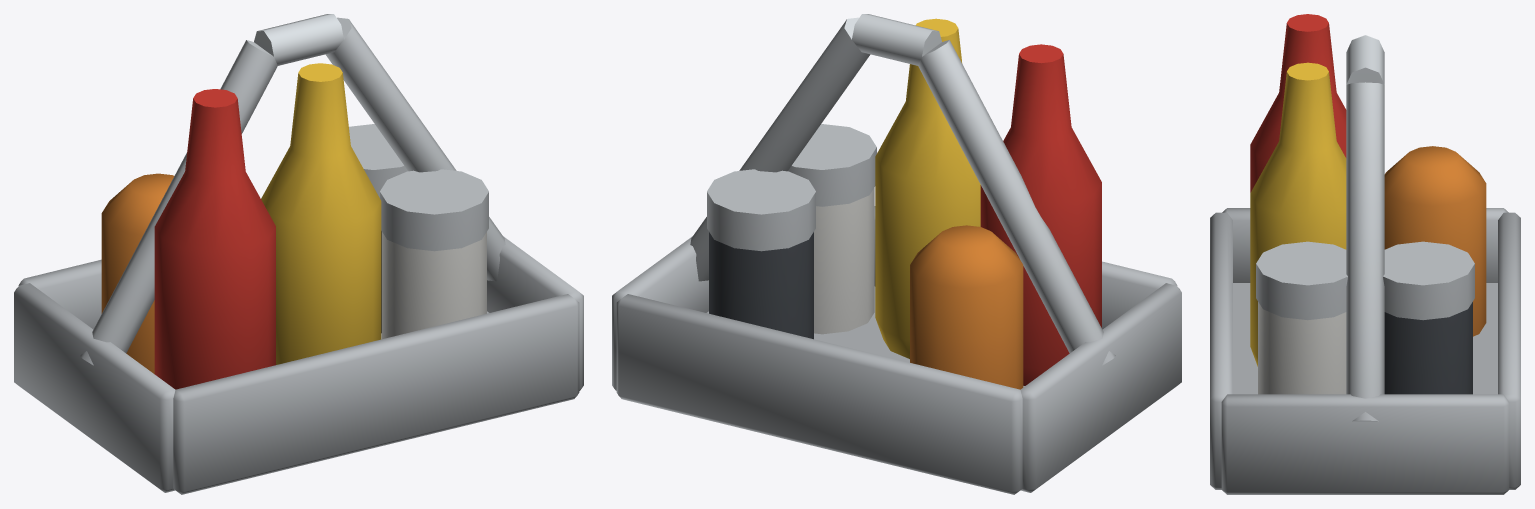
Rendered from SM_CondimentCaddy_01.glb.
3 renders of one model, left to right at view 1: azimuth 30°, elevation 25°; view 2: azimuth 150°, elevation 25°; view 3: azimuth 270°, elevation 25°, orthographic. The views are drawn at different scales.
Parts seen in each view (by area): view 1: SM_CondimentCaddy_01; view 2: SM_CondimentCaddy_01; view 3: SM_CondimentCaddy_01.
Boxes of the visible parts, <box> form: SM_CondimentCaddy_01: <box>14,14,583,494</box>; SM_CondimentCaddy_01: <box>612,14,1181,494</box>; SM_CondimentCaddy_01: <box>1210,14,1520,494</box>.
Size of the model in its own units: 0.2469 by 0.2 by 0.162.
Materials: 1 (1 with a texture image).
